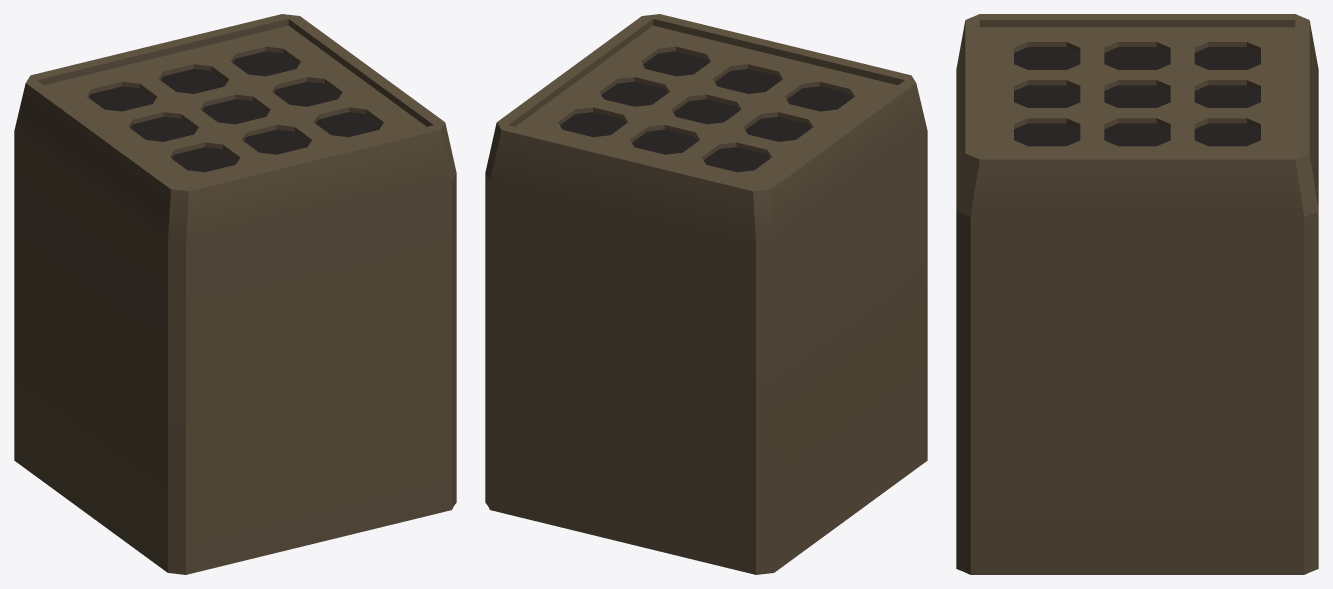
Rendered from trap_retractablespikes.fbx.
3 views of the same model, side by side, from view 1: azimuth 30°, elevation 25°; view 2: azimuth 150°, elevation 25°; view 3: azimuth 270°, elevation 25° (orthographic). The views are drawn at different scales.
Parts seen in each view (by area): view 1: spikebase; view 2: spikebase; view 3: spikebase.
Part boxes in pixels (box(x1,y1,x2,y2)): spikebase: box(14, 14, 456, 574); spikebase: box(485, 14, 927, 574); spikebase: box(956, 14, 1318, 574).
Bounding box in the file's own units: 1.82 × 2.28 × 1.82.
